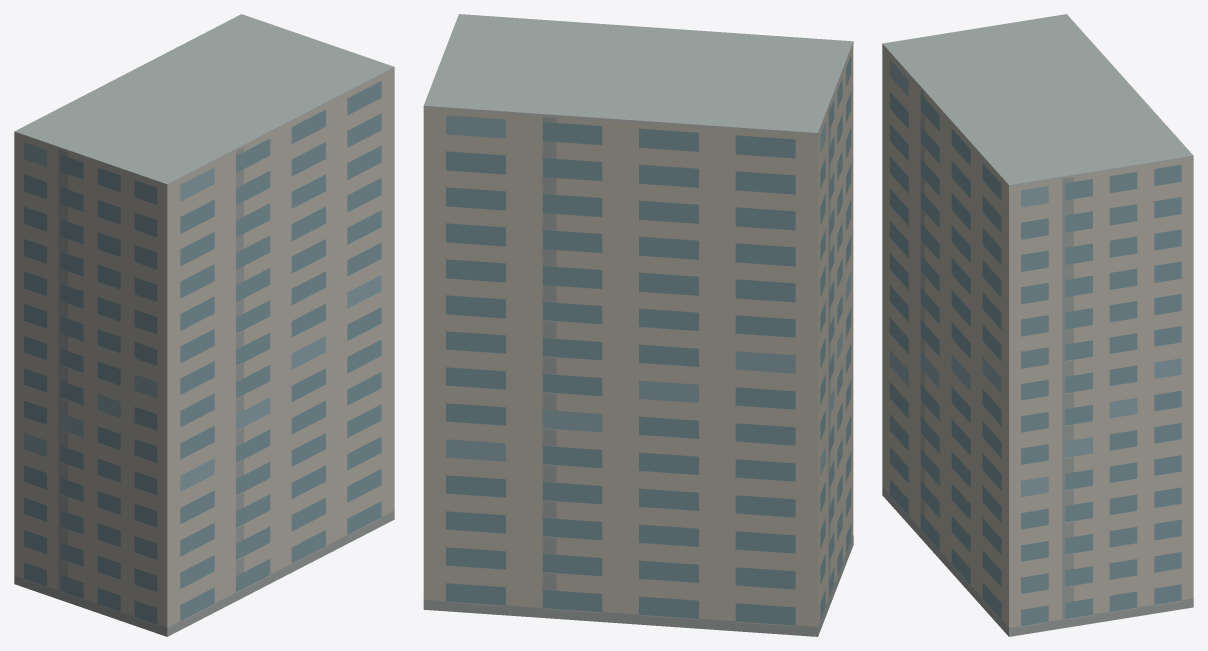
The model's file is residential-e88e3db1-504b-497c-b7fb-07f1b23d41d7.glb.
The picture shows the model from 3 angles, left to right: view 1: azimuth 30°, elevation 25°; view 2: azimuth 150°, elevation 25°; view 3: azimuth 270°, elevation 25°; orthographic projection. The views are drawn at different scales.
Visible parts, largest first — view 1: residential-e88e3db1-504b-497c-b7fb-07f1b23d41d7.tmp; view 2: residential-e88e3db1-504b-497c-b7fb-07f1b23d41d7.tmp; view 3: residential-e88e3db1-504b-497c-b7fb-07f1b23d41d7.tmp.
Boxes of the visible parts, left/top/right/bottom form: residential-e88e3db1-504b-497c-b7fb-07f1b23d41d7.tmp: left=14, top=14, right=394, bottom=636; residential-e88e3db1-504b-497c-b7fb-07f1b23d41d7.tmp: left=423, top=14, right=853, bottom=636; residential-e88e3db1-504b-497c-b7fb-07f1b23d41d7.tmp: left=882, top=14, right=1193, bottom=636.
Size of the model in its own units: 38.2 by 47 by 29.36.
